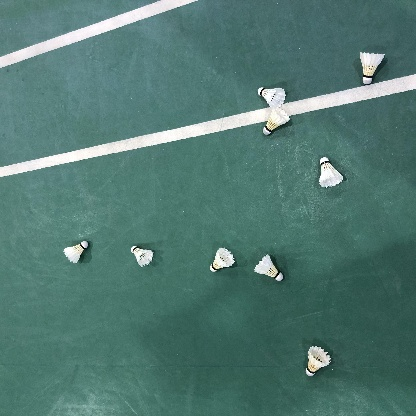ball_single: (360, 52, 385, 84), (254, 254, 283, 281), (263, 106, 290, 135), (306, 346, 331, 376), (319, 157, 343, 188), (210, 247, 235, 272), (258, 87, 286, 108), (63, 241, 88, 264), (131, 246, 153, 267)
